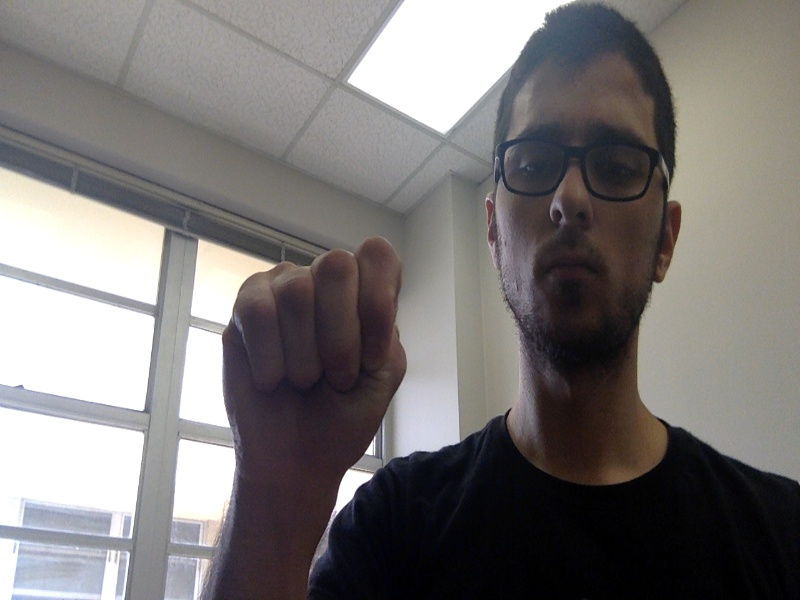0-hand: (224, 238, 412, 458)
